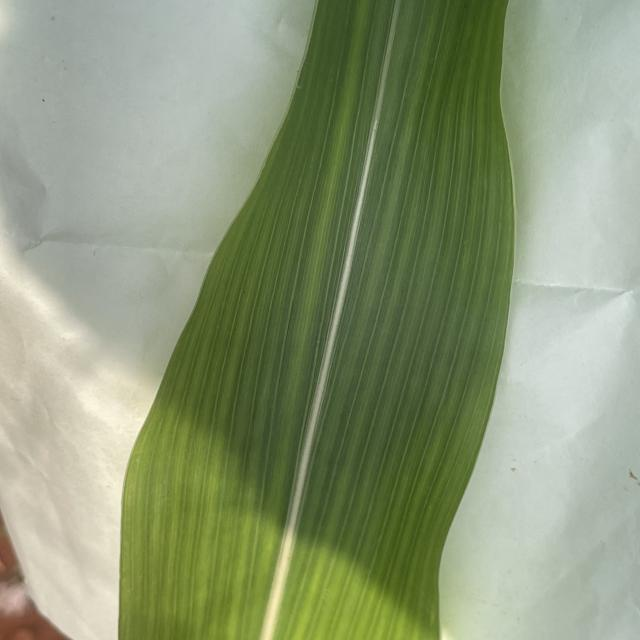millet_healthy: (120, 1, 518, 640)
